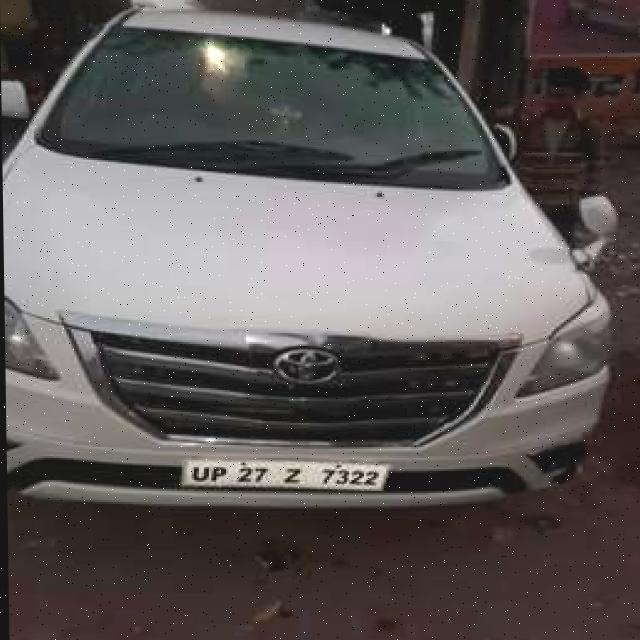plate: (179, 456, 389, 496)
